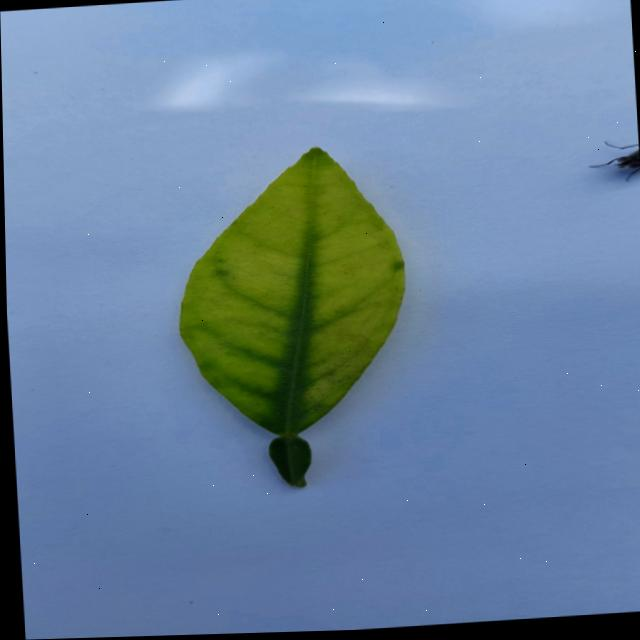greening: (179, 147, 404, 487)
